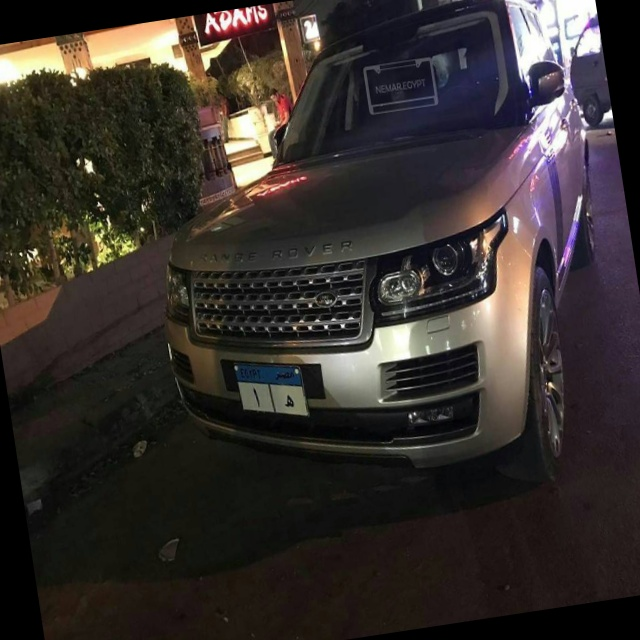License Plate: (230, 352, 311, 431)
